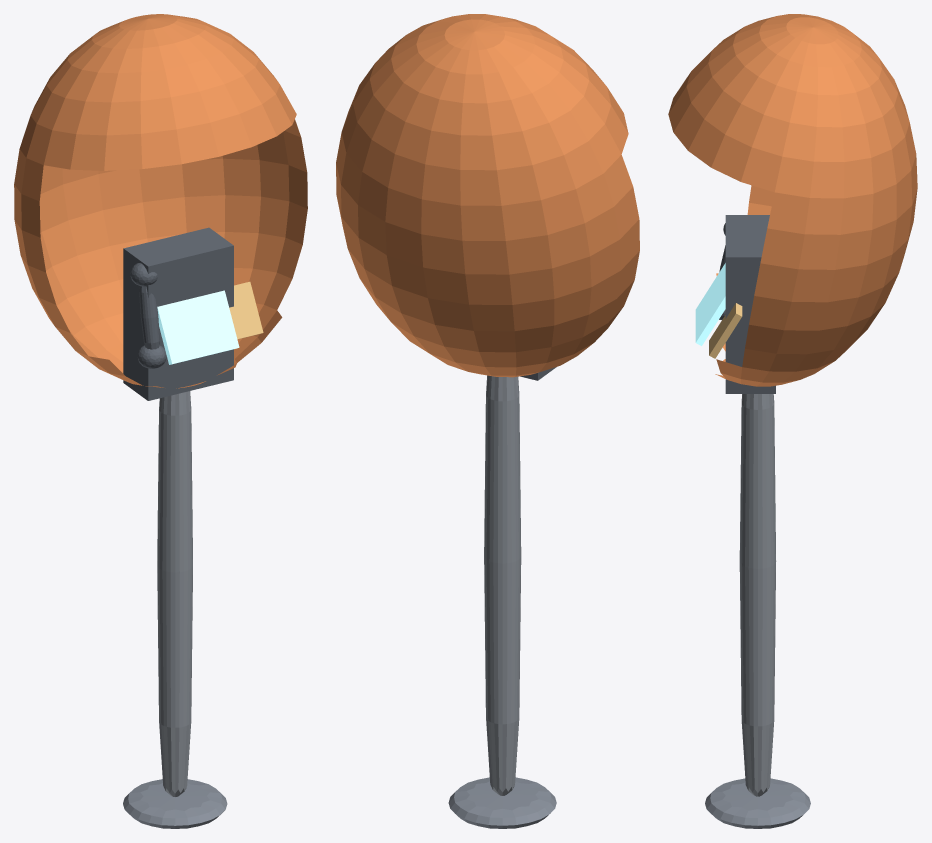
File: orelhao.glb
The picture shows the model from 3 angles, left to right: view 1: azimuth 30°, elevation 25°; view 2: azimuth 150°, elevation 25°; view 3: azimuth 270°, elevation 25°; orthographic projection. The views are drawn at different scales.
Parts seen in each view (by area): view 1: Orelhao; view 2: Orelhao; view 3: Orelhao.
Boxes of the visible parts, x1=… form: Orelhao: x1=14, y1=14, x2=307, y2=828; Orelhao: x1=336, y1=14, x2=639, y2=828; Orelhao: x1=668, y1=14, x2=917, y2=828.
Bounding box in the file's own units: 0.871 × 2.41 × 0.6952.
